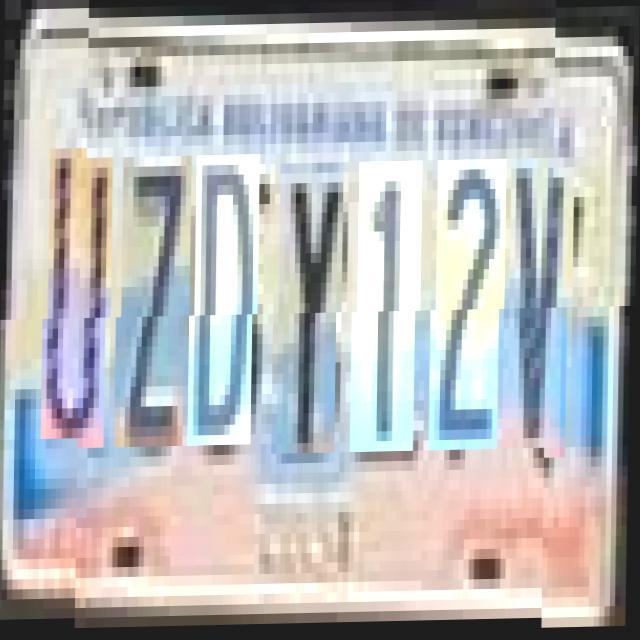1: (357, 162, 423, 454)
2: (436, 161, 507, 452)
D: (194, 156, 260, 447)
U: (48, 158, 114, 449)
V: (509, 160, 575, 451)
Y: (278, 164, 344, 455)
Z: (121, 156, 192, 448)
